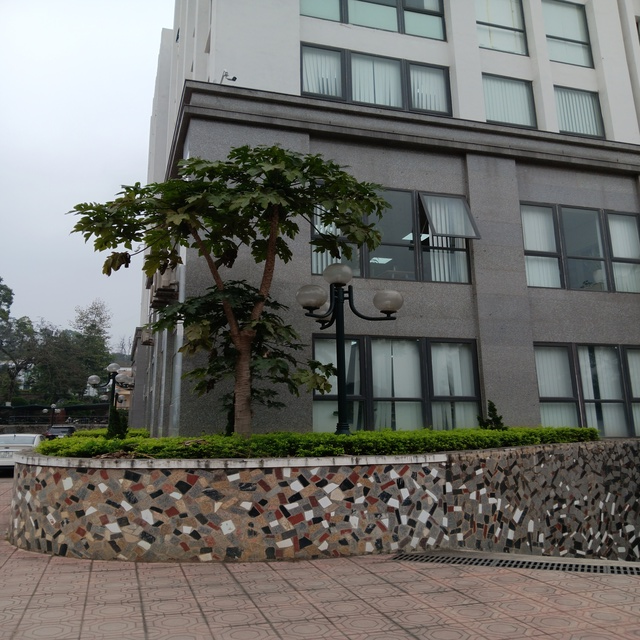cotden: (303, 270, 405, 435)
